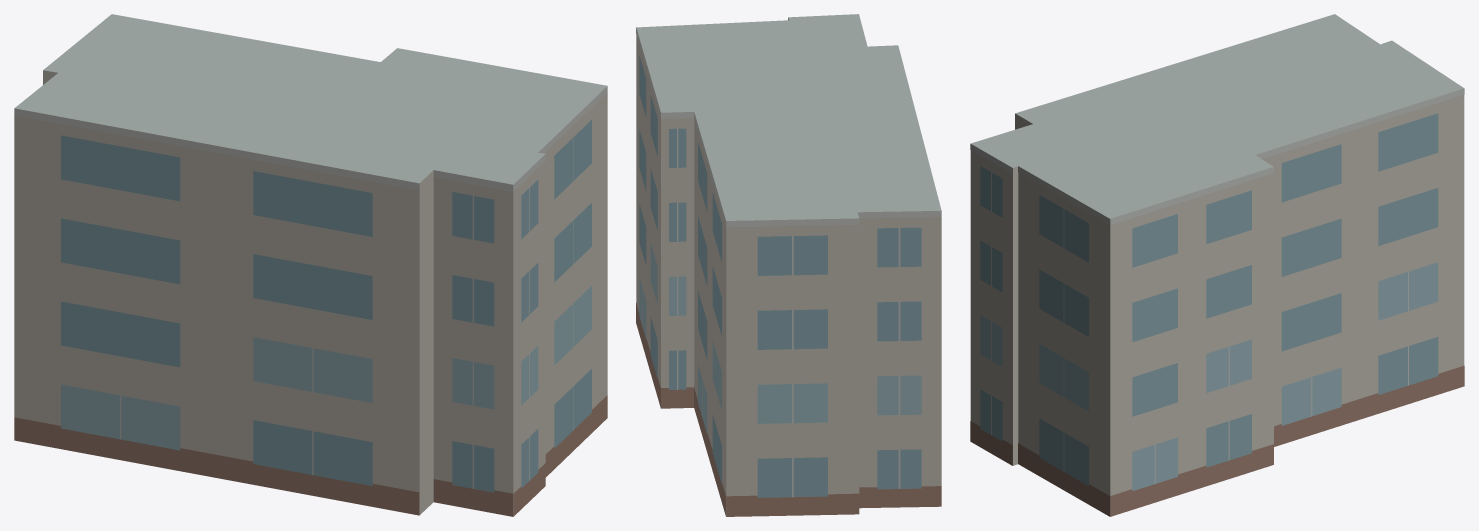
The model's file is survey-upis-32869607.glb.
The picture shows the model from 3 angles, left to right: view 1: azimuth 30°, elevation 25°; view 2: azimuth 150°, elevation 25°; view 3: azimuth 270°, elevation 25°; orthographic projection. The views are drawn at different scales.
Parts seen in each view (by area): view 1: survey-upis-32869607.tmp; view 2: survey-upis-32869607.tmp; view 3: survey-upis-32869607.tmp.
Boxes of the visible parts, left/top/right/bottom form: survey-upis-32869607.tmp: left=14, top=14, right=607, bottom=516; survey-upis-32869607.tmp: left=636, top=14, right=941, bottom=516; survey-upis-32869607.tmp: left=970, top=14, right=1464, bottom=516.
Bounding box in the file's own units: 17.12 × 11.6 × 17.44.
